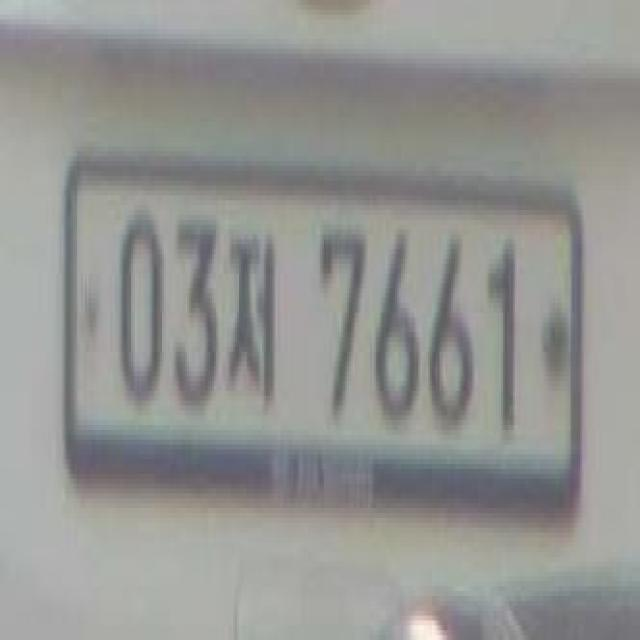illegal_plate: (62, 142, 590, 522)
